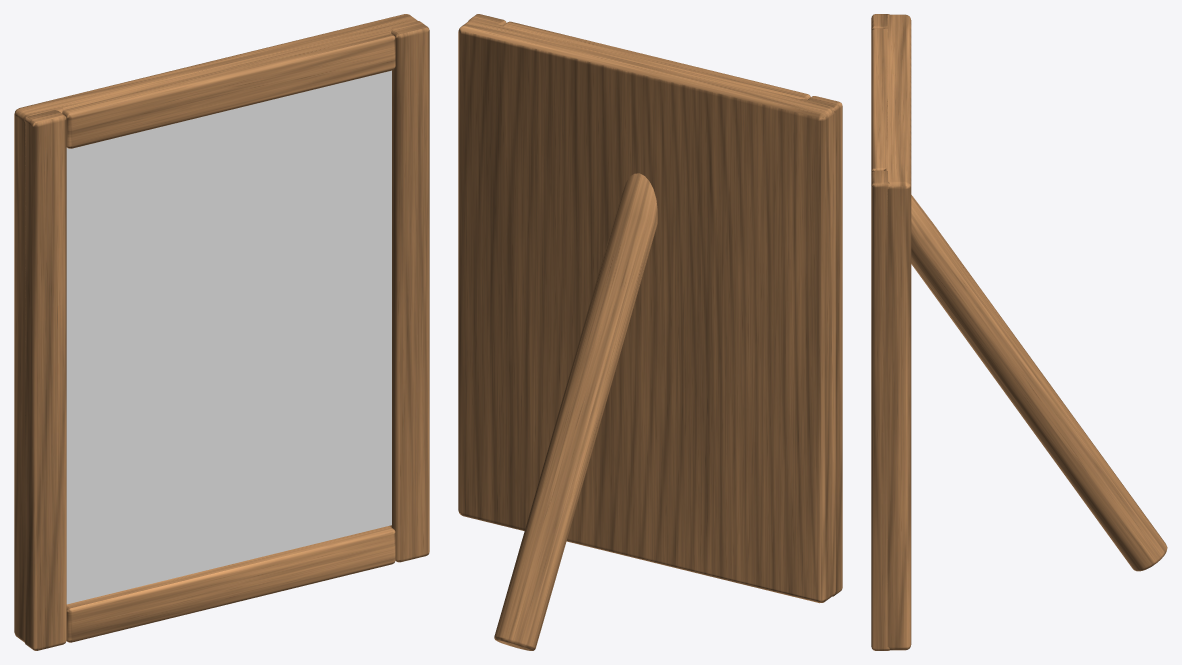
File: preview.glb
3 views of the same model, side by side, from view 1: azimuth 30°, elevation 25°; view 2: azimuth 150°, elevation 25°; view 3: azimuth 270°, elevation 25° (orthographic). The views are drawn at different scales.
Parts seen in each view (by area): view 1: OakEasel; view 2: OakEasel; view 3: OakEasel.
Part boxes in pixels (<box>): OakEasel: <box>14,14,429,650</box>; OakEasel: <box>458,14,842,650</box>; OakEasel: <box>871,14,1167,650</box>.
Size of the model in its own units: 0.175 by 0.2239 by 0.1278.
2 materials, 1 textured.
